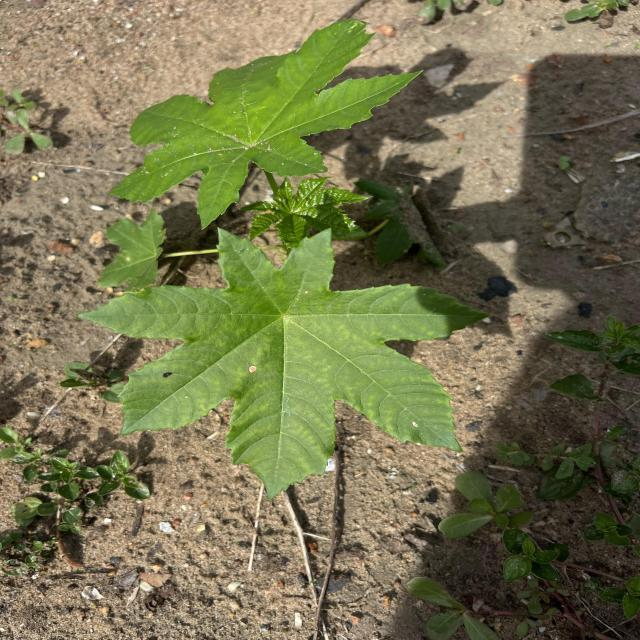Ricinus communis linn: (70, 223, 496, 504), (103, 16, 426, 232)
